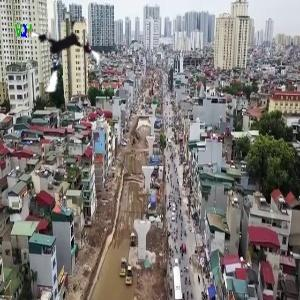drone: (21, 14, 105, 98)
